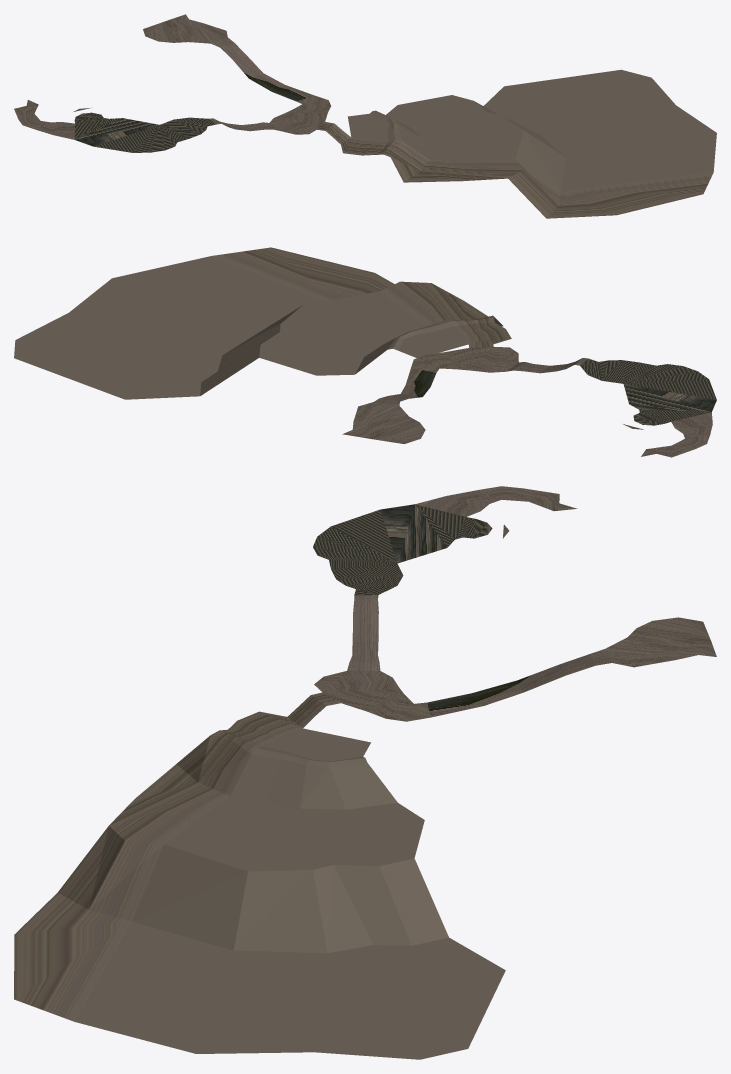
The model's file is collider 1.FBX.
3 renders of one model, top to bottom at view 1: azimuth 30°, elevation 25°; view 2: azimuth 150°, elevation 25°; view 3: azimuth 270°, elevation 25°, orthographic. The views are drawn at different scales.
Visible parts, largest first — view 1: collider; view 2: collider; view 3: collider.
Boxes of the visible parts, box(x1,y1,x2,y2) form: collider: box(14, 14, 716, 218); collider: box(14, 247, 716, 457); collider: box(14, 486, 716, 1059).
Bounding box in the file's own units: 171 × 22.37 × 113.
1 material, 1 textured.
